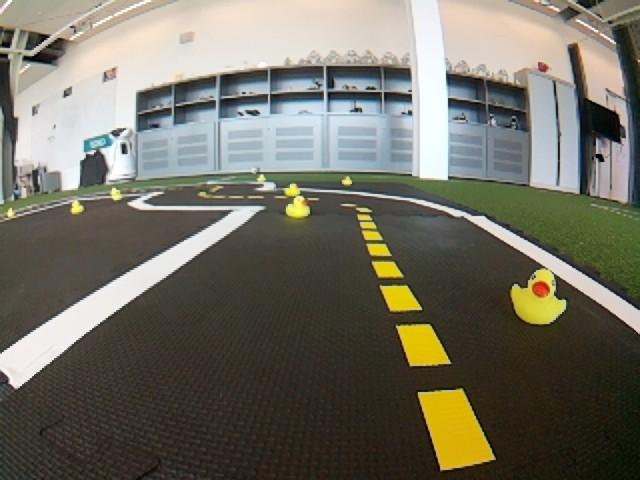Duckies: (511, 269, 564, 325), (286, 196, 310, 219), (285, 183, 302, 196), (70, 202, 84, 214), (4, 208, 15, 218), (111, 191, 123, 199), (111, 187, 122, 195), (342, 176, 351, 185), (256, 174, 266, 181)
